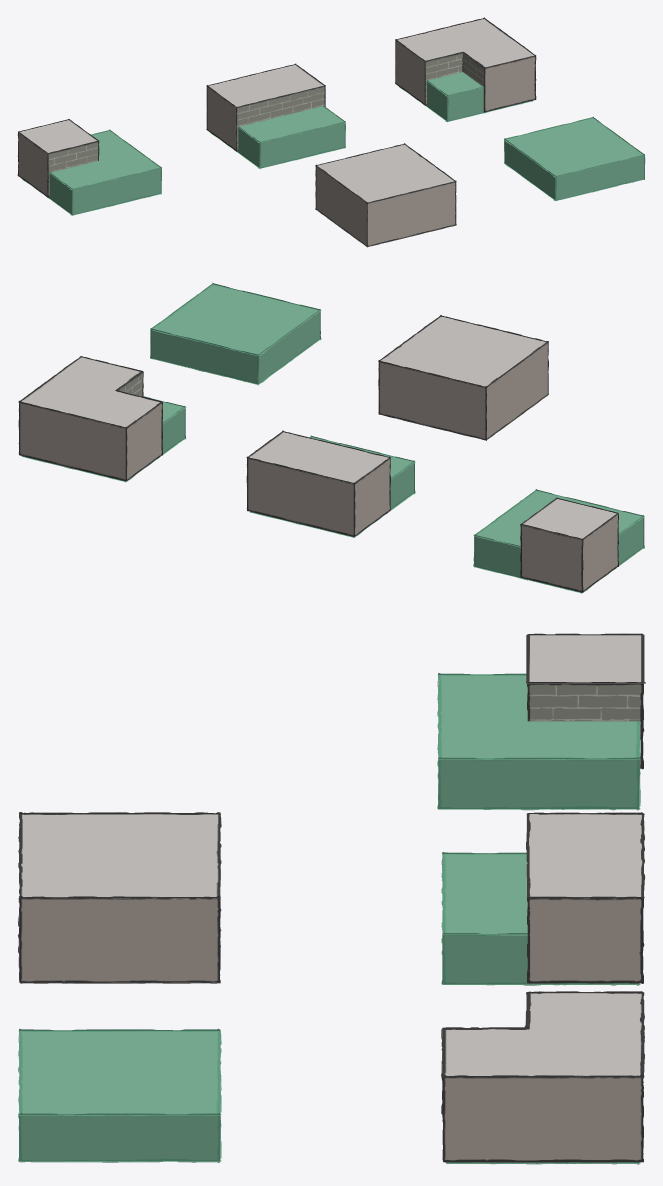
Rendered from Terrain.fbx.
3 views of the same model, one above another, from view 1: azimuth 30°, elevation 25°; view 2: azimuth 150°, elevation 25°; view 3: azimuth 270°, elevation 25° (orthographic). The views are drawn at different scales.
Parts seen in each view (by area): view 1: StoneEdge-2, Ground, StoneEdge-0, StoneEdge-1, Water; view 2: Ground, StoneEdge-2, StoneEdge-0, StoneEdge-1, Water; view 3: Ground, StoneEdge-1, StoneEdge-2, StoneEdge-0, Water.
Part boxes in pixels (<box>): StoneEdge-2: <box>395,17,536,121</box>; Ground: <box>315,143,456,247</box>; StoneEdge-0: <box>206,63,345,168</box>; StoneEdge-1: <box>17,119,161,215</box>; Water: <box>504,116,645,201</box>; Ground: <box>378,315,548,440</box>; StoneEdge-2: <box>18,356,186,482</box>; StoneEdge-0: <box>246,430,415,537</box>; StoneEdge-1: <box>473,489,644,593</box>; Water: <box>150,282,321,385</box>; Ground: <box>17,812,221,983</box>; StoneEdge-1: <box>437,633,645,810</box>; StoneEdge-2: <box>441,991,644,1164</box>; StoneEdge-0: <box>441,812,645,985</box>; Water: <box>18,1028,221,1162</box>.
Size of the model in its own units: 2500 by 260 by 1500.
1 material, 1 textured.
